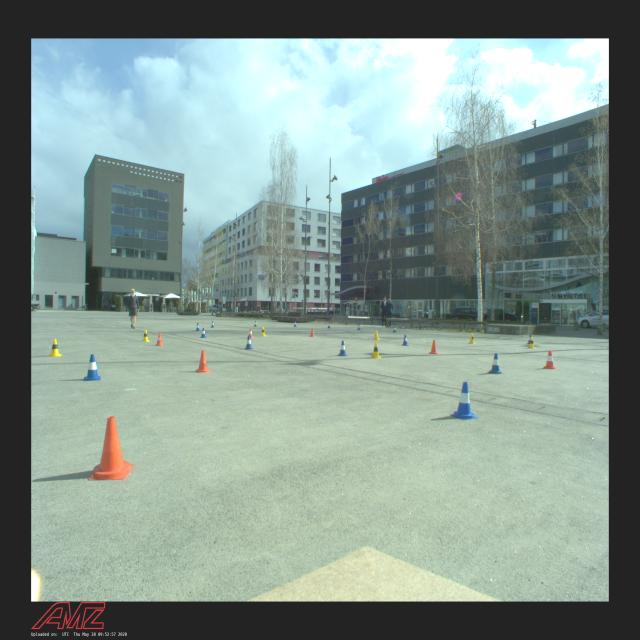blue_cone: (450, 380, 478, 420), (84, 354, 100, 381), (488, 352, 503, 374), (336, 340, 348, 356), (245, 336, 253, 350), (402, 334, 409, 346), (200, 328, 207, 338), (196, 323, 202, 331), (527, 334, 531, 344), (392, 326, 397, 332), (211, 321, 215, 328), (294, 321, 298, 327), (327, 322, 331, 328), (357, 324, 361, 330), (254, 321, 258, 326)
orange_cone: (88, 416, 134, 481), (196, 349, 212, 374), (543, 350, 556, 369), (429, 340, 439, 354), (156, 332, 163, 346), (248, 328, 254, 338), (310, 328, 316, 337)
yellow_cone: (48, 339, 62, 357), (371, 342, 382, 358), (142, 329, 150, 342), (528, 337, 536, 349), (468, 334, 476, 344), (260, 326, 266, 336), (374, 330, 379, 340)
